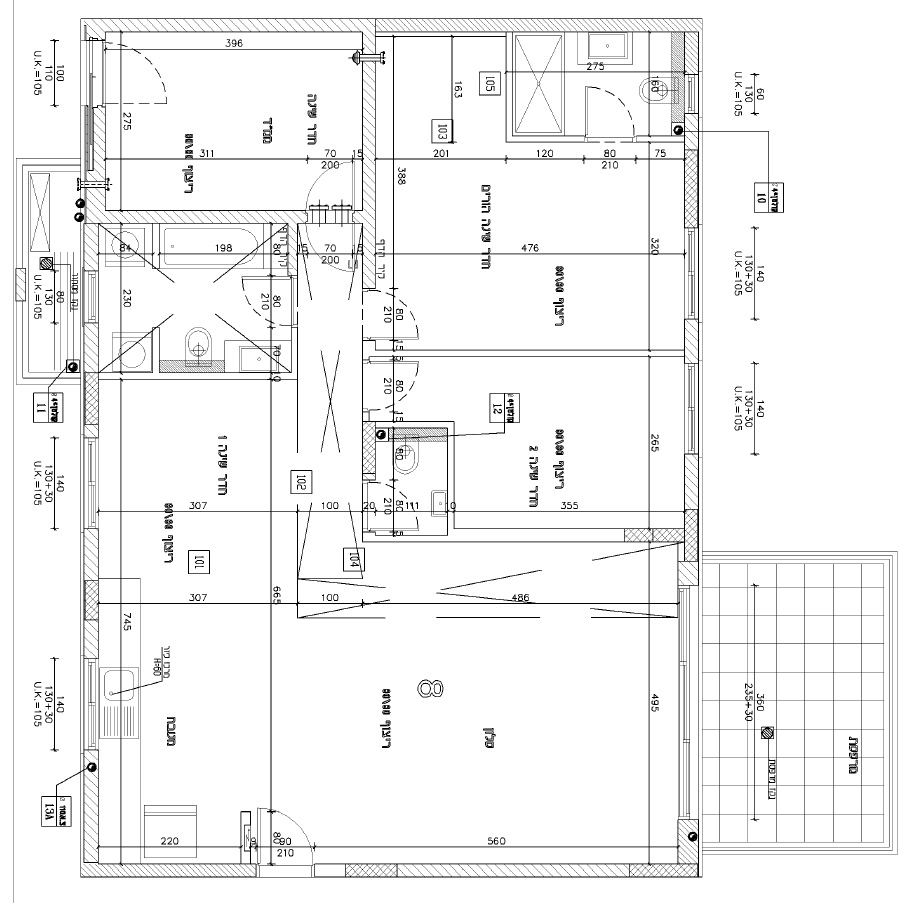door: (111, 36, 180, 113), (575, 79, 641, 129), (239, 272, 285, 333)
wall: (98, 17, 699, 30), (83, 210, 303, 222), (82, 864, 252, 875), (80, 862, 250, 873), (418, 865, 588, 876), (364, 62, 374, 239), (684, 152, 697, 220), (344, 864, 394, 877), (627, 530, 697, 539)
window: (81, 658, 99, 750), (81, 433, 97, 529), (684, 363, 698, 455), (686, 228, 697, 320), (684, 72, 697, 113)
